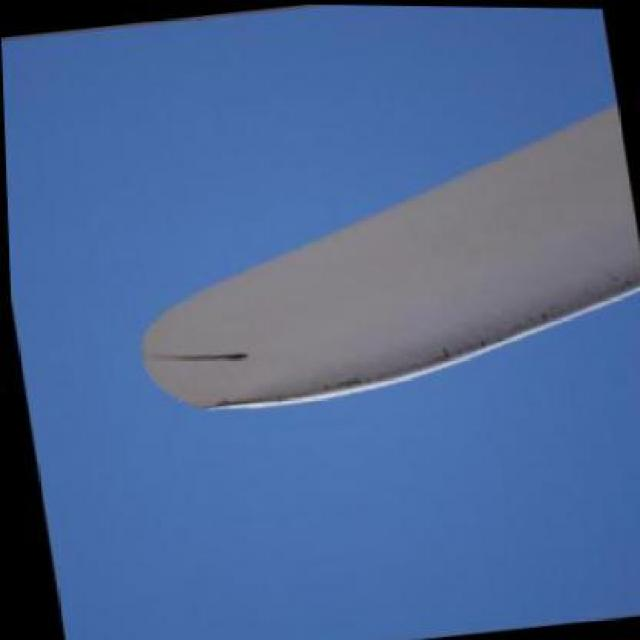Burn Mark: (142, 341, 247, 374)
EROSION: (413, 316, 570, 373), (200, 377, 388, 411)
